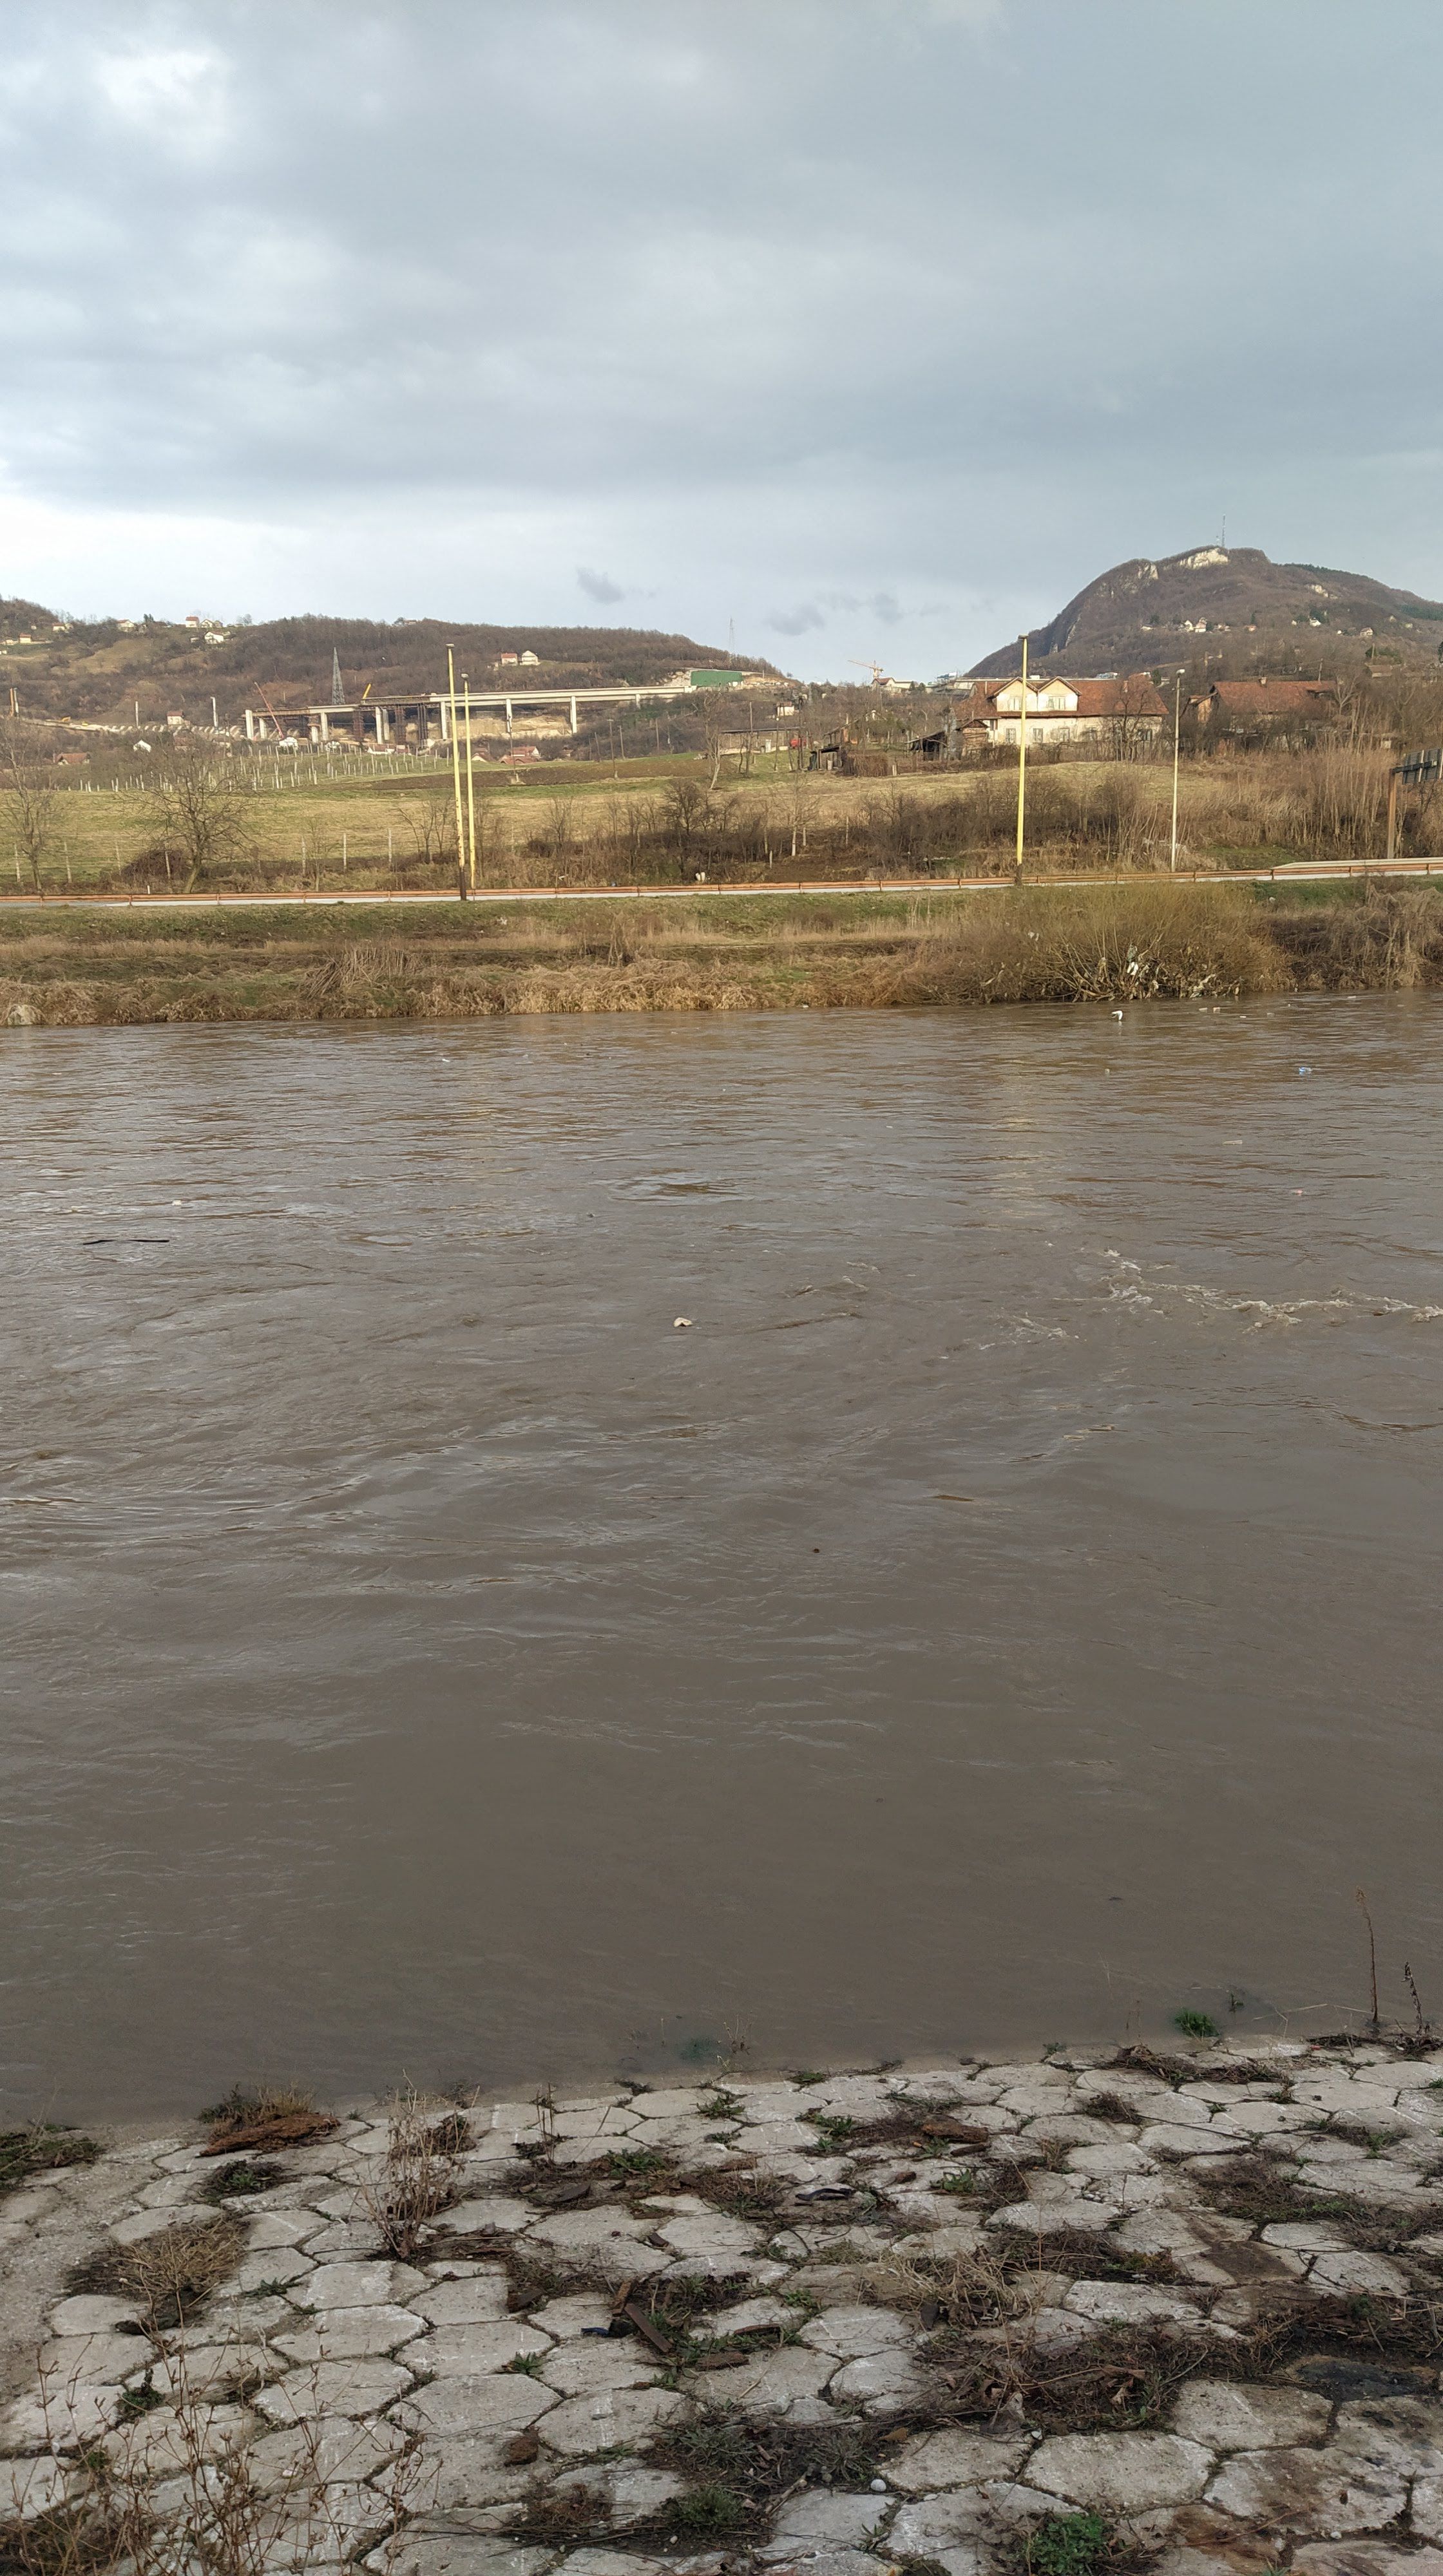Plastic Bottle: (1289, 1189, 1305, 1194), (1300, 1067, 1312, 1072), (1223, 1139, 1241, 1143), (1347, 994, 1356, 1000), (443, 1058, 450, 1063), (522, 1054, 528, 1058), (1105, 1069, 1110, 1072), (1199, 1007, 1206, 1008), (1213, 1007, 1220, 1008), (1239, 1016, 1246, 1017), (1268, 1014, 1273, 1016)
